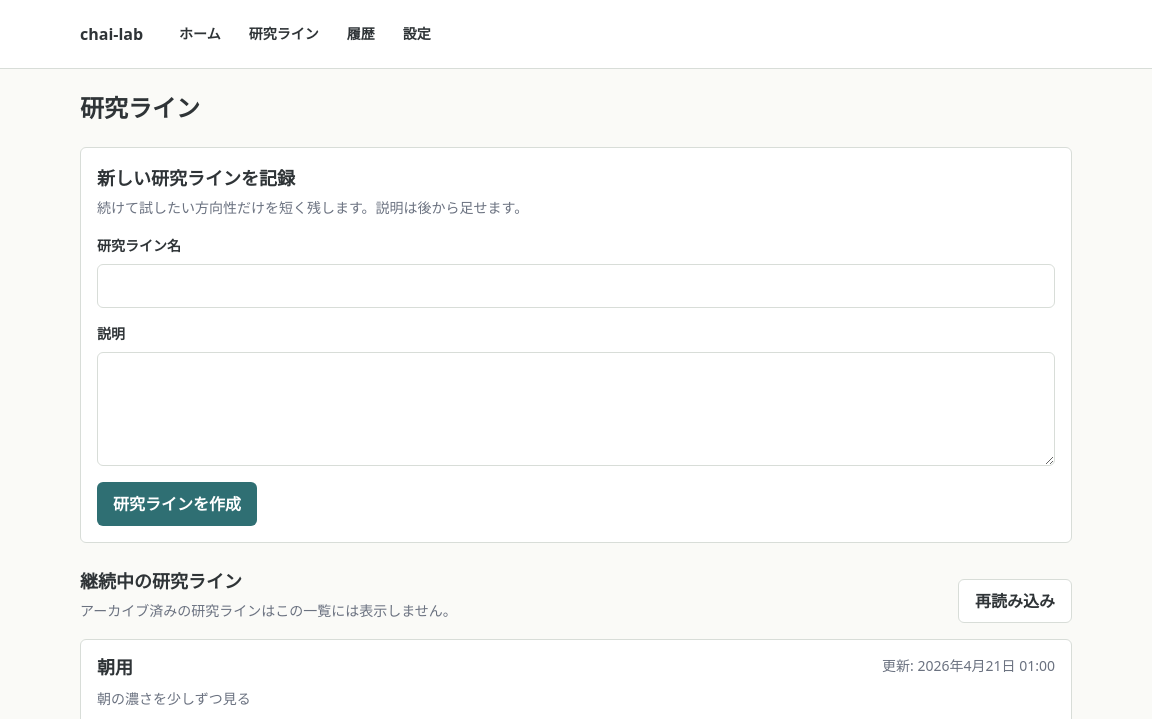
Scenario: ResearchLinesListClient › separates duplicate errors from validation errors on create
Expected: the heading "朝用" is shown, [97,656,133,678]
In the field labelled "研究ライン名": x=576, y=286 [97,264,1055,308], type "朝用"
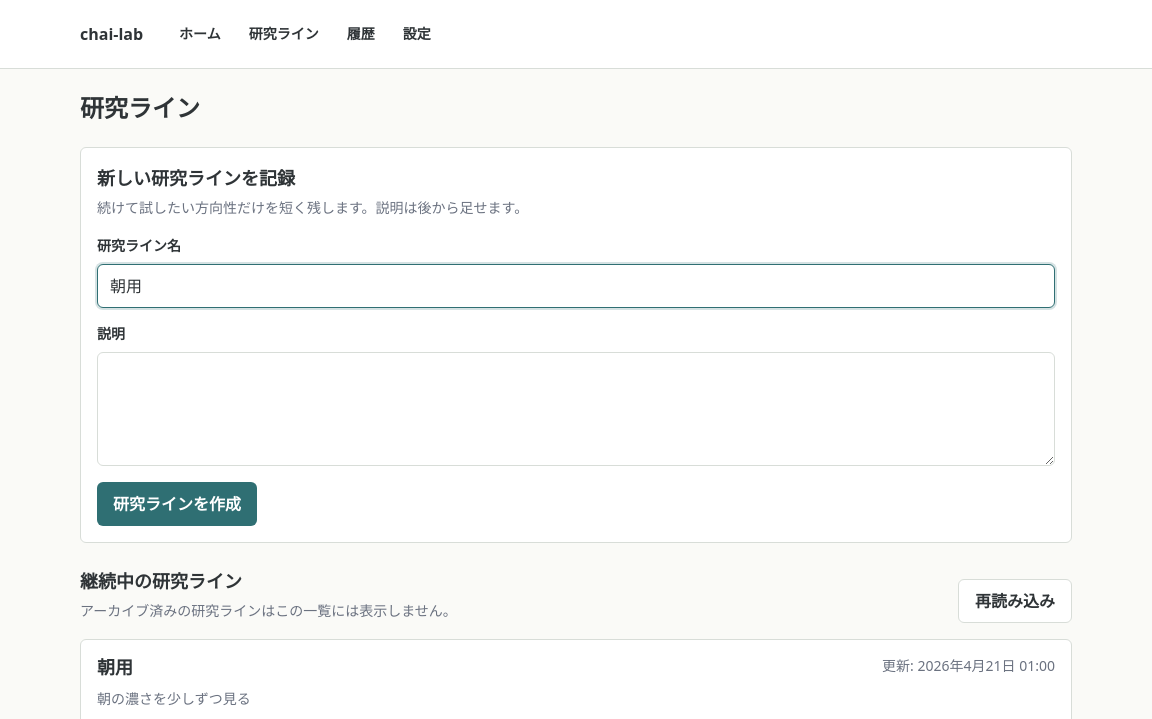
Click the button "研究ラインを作成": x=177, y=504 [97,482,257,526]
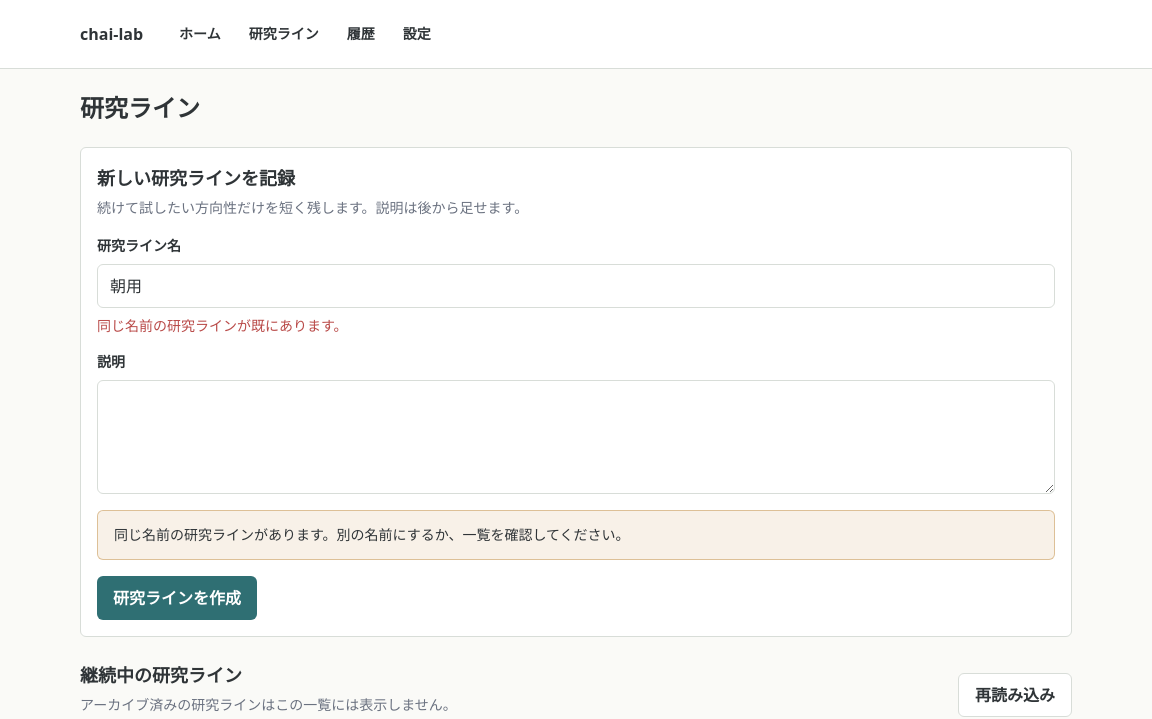
Now the text "同じ名前の研究ラインがあります。別の名前にするか、一覧を確認してください。" is shown, box [97,510,1055,560]
Now the text "同じ名前の研究ラインが既にあります。" is shown, box [97,316,348,335]
